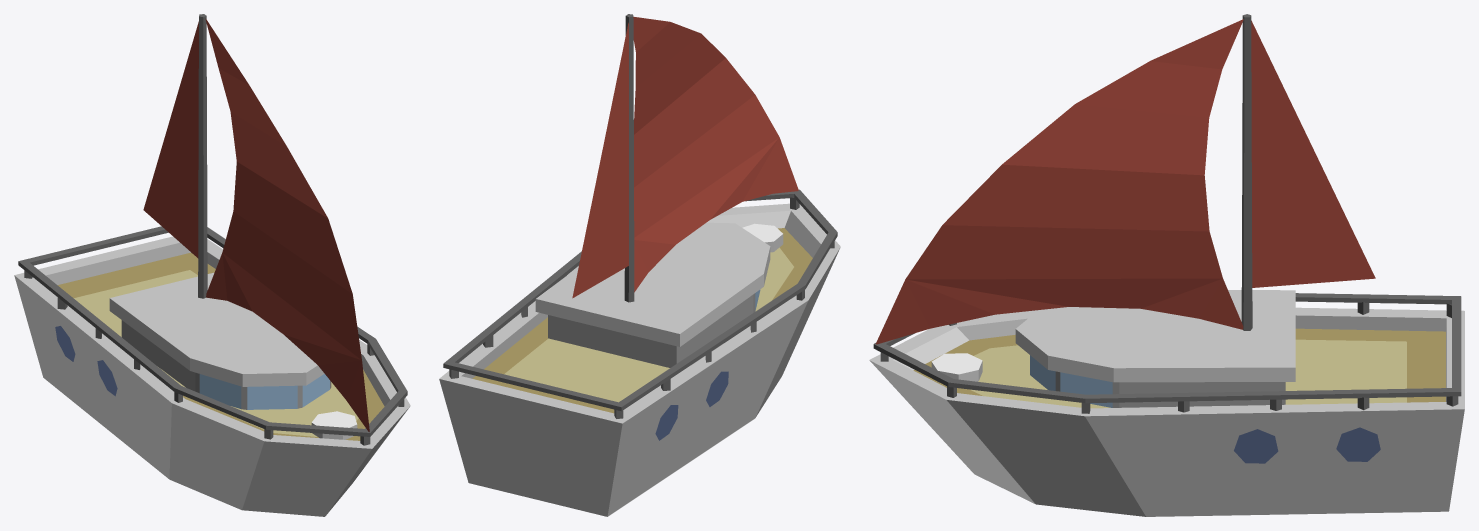
Rendered from transport_water_010.glb.
The picture shows the model from 3 angles, left to right: view 1: azimuth 30°, elevation 25°; view 2: azimuth 150°, elevation 25°; view 3: azimuth 270°, elevation 25°; orthographic projection. The views are drawn at different scales.
Parts seen in each view (by area): view 1: transport_water_010; view 2: transport_water_010; view 3: transport_water_010.
Part boxes in pixels (x1,y1,x2,y2): transport_water_010: [14, 14, 410, 516]; transport_water_010: [439, 14, 840, 516]; transport_water_010: [869, 14, 1464, 516].
Size of the model in its own units: 4 by 7.61 by 8.96.
1 material, 1 textured.
